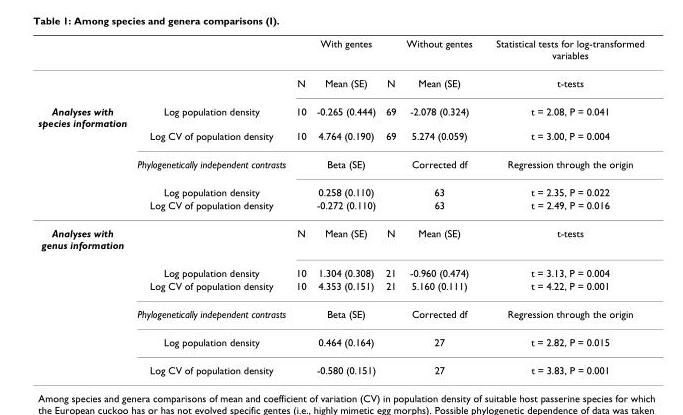table: (37, 37, 643, 375)
table column: (483, 37, 643, 375), (131, 37, 290, 375), (37, 37, 131, 375), (400, 37, 483, 375), (310, 37, 380, 375), (290, 37, 310, 375), (380, 37, 400, 375)
table column header: (37, 37, 643, 96)
table row: (37, 218, 643, 258), (37, 96, 643, 129), (37, 37, 643, 68), (37, 68, 643, 96), (37, 149, 643, 177), (37, 299, 643, 327), (37, 327, 643, 355), (37, 177, 643, 198), (37, 258, 643, 279), (37, 129, 643, 149), (37, 198, 643, 218), (37, 279, 643, 299), (37, 355, 643, 375)
table spanning cell: (37, 218, 131, 375), (37, 96, 131, 218), (483, 37, 643, 96), (400, 37, 483, 96), (290, 37, 400, 68)
